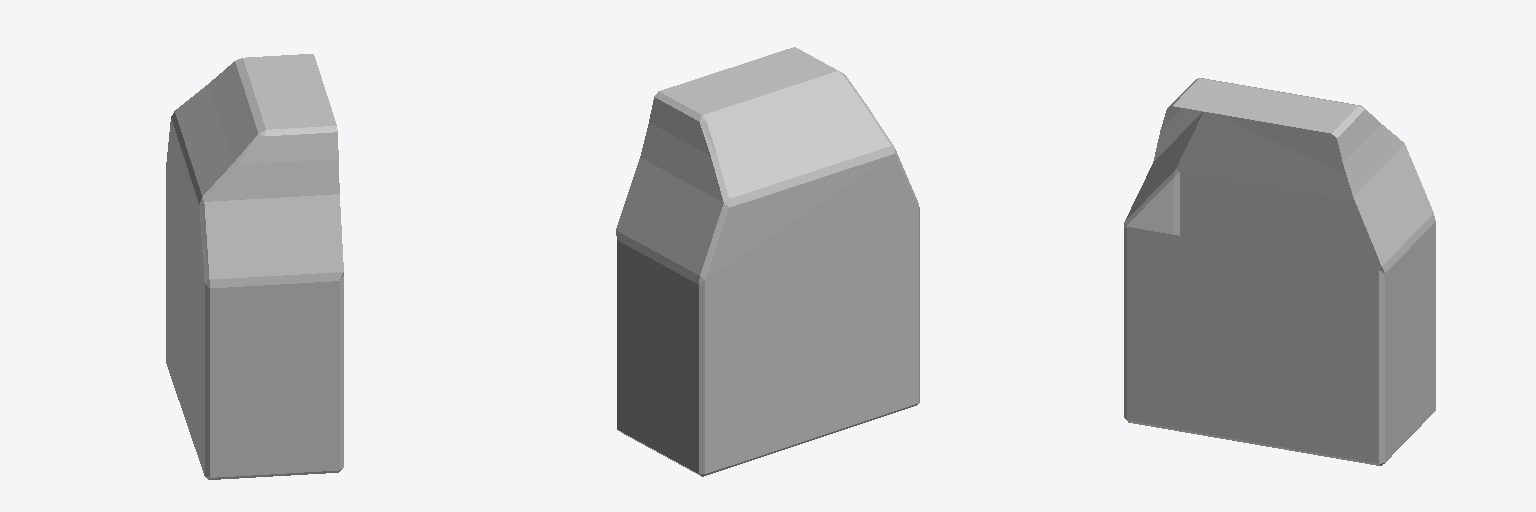
The picture shows the model from 3 angles: view 1: azimuth 30°, elevation 25°; view 2: azimuth 150°, elevation 25°; view 3: azimuth 270°, elevation 25°; orthographic projection.
Parts seen in each view (by area): view 1: Bistro_Research_Exterior_paris_building_11_5855; view 2: Bistro_Research_Exterior_paris_building_11_5855; view 3: Bistro_Research_Exterior_paris_building_11_5855.
Boxes of the visible parts, <box> form: Bistro_Research_Exterior_paris_building_11_5855: <box>166,54,343,479</box>; Bistro_Research_Exterior_paris_building_11_5855: <box>616,47,919,476</box>; Bistro_Research_Exterior_paris_building_11_5855: <box>1124,78,1435,465</box>.
Size of the model in its own units: 0.8065 by 1.24 by 1.07.